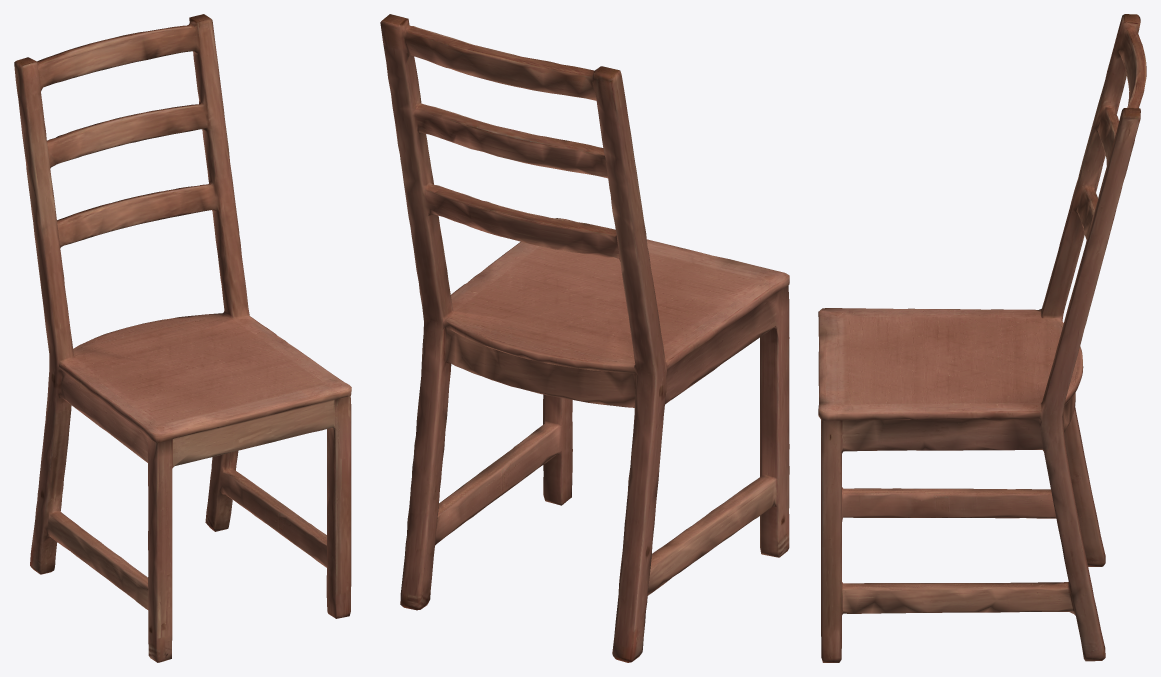
The model's file is 0f466769-82eb-4111-bed8-a0bbb983ca89.glb.
The picture shows the model from 3 angles, left to right: view 1: azimuth 30°, elevation 25°; view 2: azimuth 150°, elevation 25°; view 3: azimuth 270°, elevation 25°; orthographic projection. The views are drawn at different scales.
Visible parts, largest first — view 1: Mesh_0; view 2: Mesh_0; view 3: Mesh_0.
Boxes of the visible parts, x1,y1,x2,y2 form: Mesh_0: (14,14,351,662); Mesh_0: (380,14,789,662); Mesh_0: (818,14,1146,662).
Bounding box in the file's own units: 0.8027 × 1.91 × 1.04.
1 material, 1 textured.
